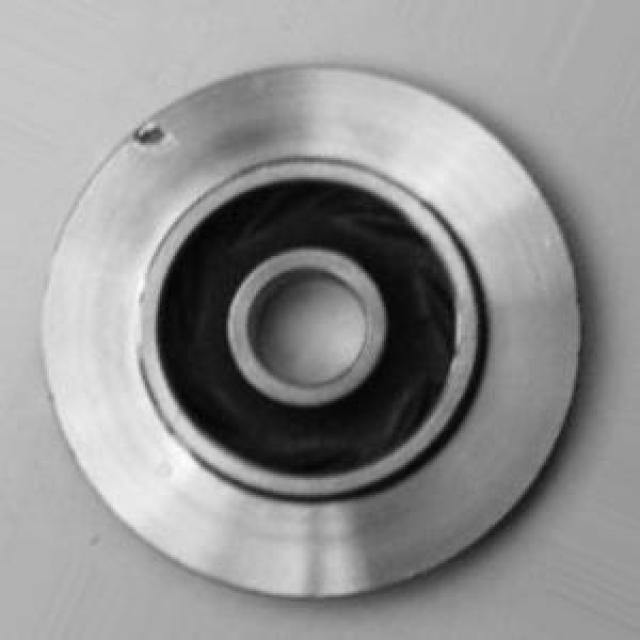Defect: (124, 108, 182, 155)
